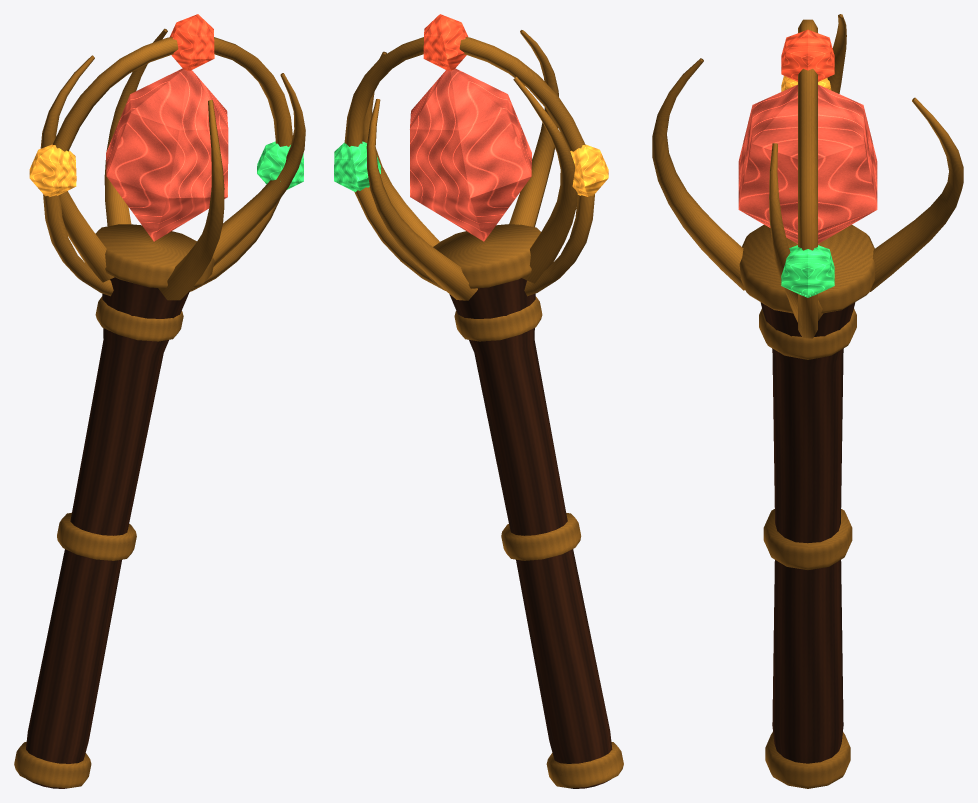
The model's file is rod_of_seasons.glb.
The picture shows the model from 3 angles, left to right: view 1: azimuth 30°, elevation 25°; view 2: azimuth 150°, elevation 25°; view 3: azimuth 270°, elevation 25°; orthographic projection. The views are drawn at different scales.
Parts seen in each view (by area): view 1: Carved seasonal staff, Seasonal focus, Living branch crown (×4), Gold staff collar (×4), Season crown medallion, Four-season crown stone (×3); view 2: Carved seasonal staff, Seasonal focus, Living branch crown (×4), Gold staff collar (×4), Season crown medallion, Four-season crown stone (×3); view 3: Carved seasonal staff, Seasonal focus, Gold staff collar (×4), Living branch crown (×4), Season crown medallion, Four-season crown stone (×2).
Boxes of the visible parts, <box> form: Carved seasonal staff: <box>26,277,189,788</box>; Seasonal focus: <box>106,68,228,241</box>; Living branch crown (×4): <box>40,28,305,300</box>; Gold staff collar (×4): <box>14,224,214,788</box>; Season crown medallion: <box>43,37,292,296</box>; Four-season crown stone (×3): <box>29,14,303,196</box>; Carved seasonal staff: <box>449,278,612,788</box>; Seasonal focus: <box>410,68,531,241</box>; Living branch crown (×4): <box>362,30,577,300</box>; Gold staff collar (×4): <box>426,224,623,788</box>; Season crown medallion: <box>344,37,594,296</box>; Four-season crown stone (×3): <box>334,14,608,196</box>; Carved seasonal staff: <box>760,302,855,763</box>; Seasonal focus: <box>738,84,877,243</box>; Gold staff collar (×4): <box>739,224,875,788</box>; Living branch crown (×4): <box>652,14,963,322</box>; Season crown medallion: <box>798,19,817,338</box>; Four-season crown stone (×2): <box>781,29,834,297</box>.
Size of the model in its own units: 27.05 by 66.61 by 22.75.
7 materials, 7 textured.
